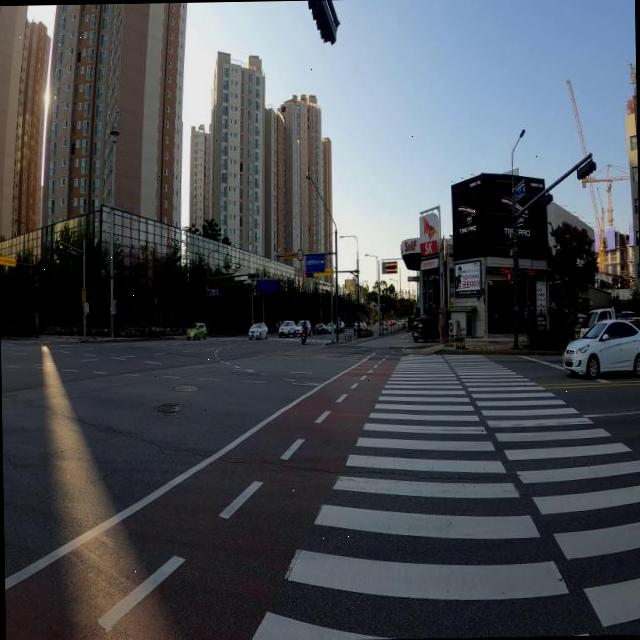crosswalk: (250, 349, 640, 640), (216, 337, 336, 342)
